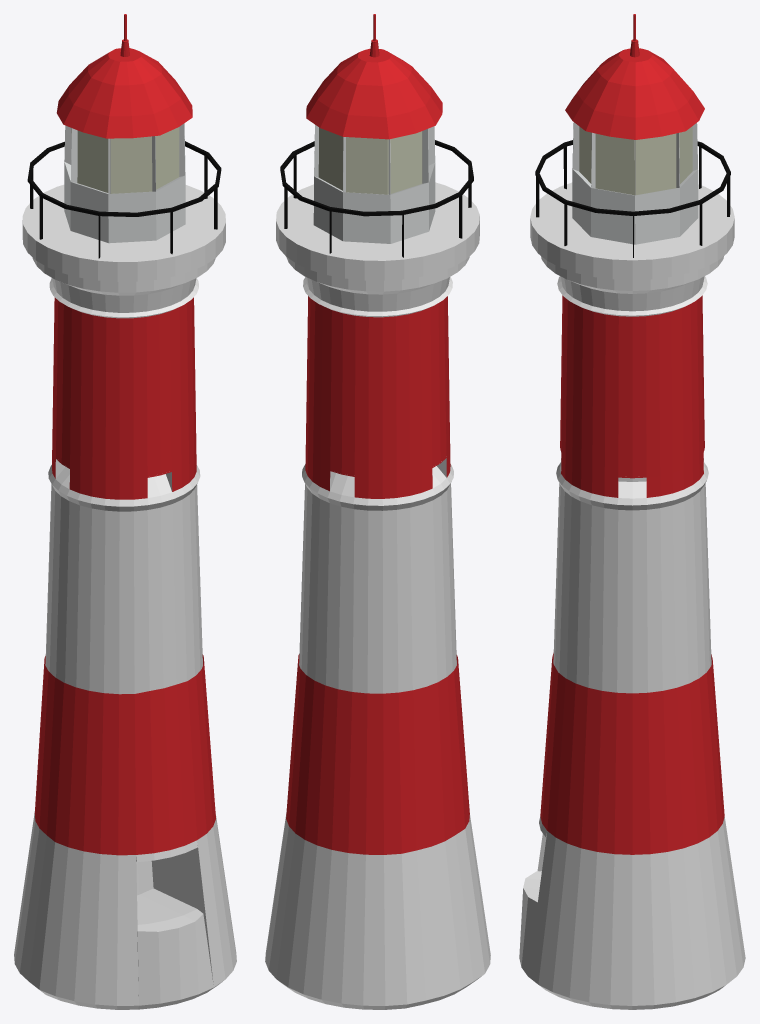
The model's file is lighthouse.fbx.
3 renders of one model, left to right at view 1: azimuth 30°, elevation 25°; view 2: azimuth 150°, elevation 25°; view 3: azimuth 270°, elevation 25°, orthographic.
Visible parts, largest first — view 1: TowerRedLower, CylinderTopRoof, CylinderTop, Windows, Railing, RailingSupport; view 2: TowerRedLower, CylinderTopRoof, CylinderTop, Windows, Railing, RailingSupport; view 3: TowerRedLower, CylinderTopRoof, CylinderTop, Windows, Railing, RailingSupport.
Boxes of the visible parts, <box> form: TowerRedLower: <box>14,184,236,1009</box>; CylinderTopRoof: <box>56,14,192,138</box>; CylinderTop: <box>64,123,185,243</box>; Windows: <box>71,127,179,193</box>; Railing: <box>27,141,221,216</box>; RailingSupport: <box>30,155,217,258</box>; TowerRedLower: <box>265,182,490,1009</box>; CylinderTopRoof: <box>306,14,442,139</box>; CylinderTop: <box>313,125,435,243</box>; Windows: <box>318,127,422,194</box>; Railing: <box>280,140,473,216</box>; RailingSupport: <box>284,154,471,257</box>; TowerRedLower: <box>519,182,745,1009</box>; CylinderTopRoof: <box>565,14,704,139</box>; CylinderTop: <box>572,122,698,244</box>; Windows: <box>579,126,692,195</box>; Railing: <box>535,140,730,215</box>; RailingSupport: <box>536,146,730,257</box>.
Bounding box in the file's own units: 274 × 1282 × 276.
